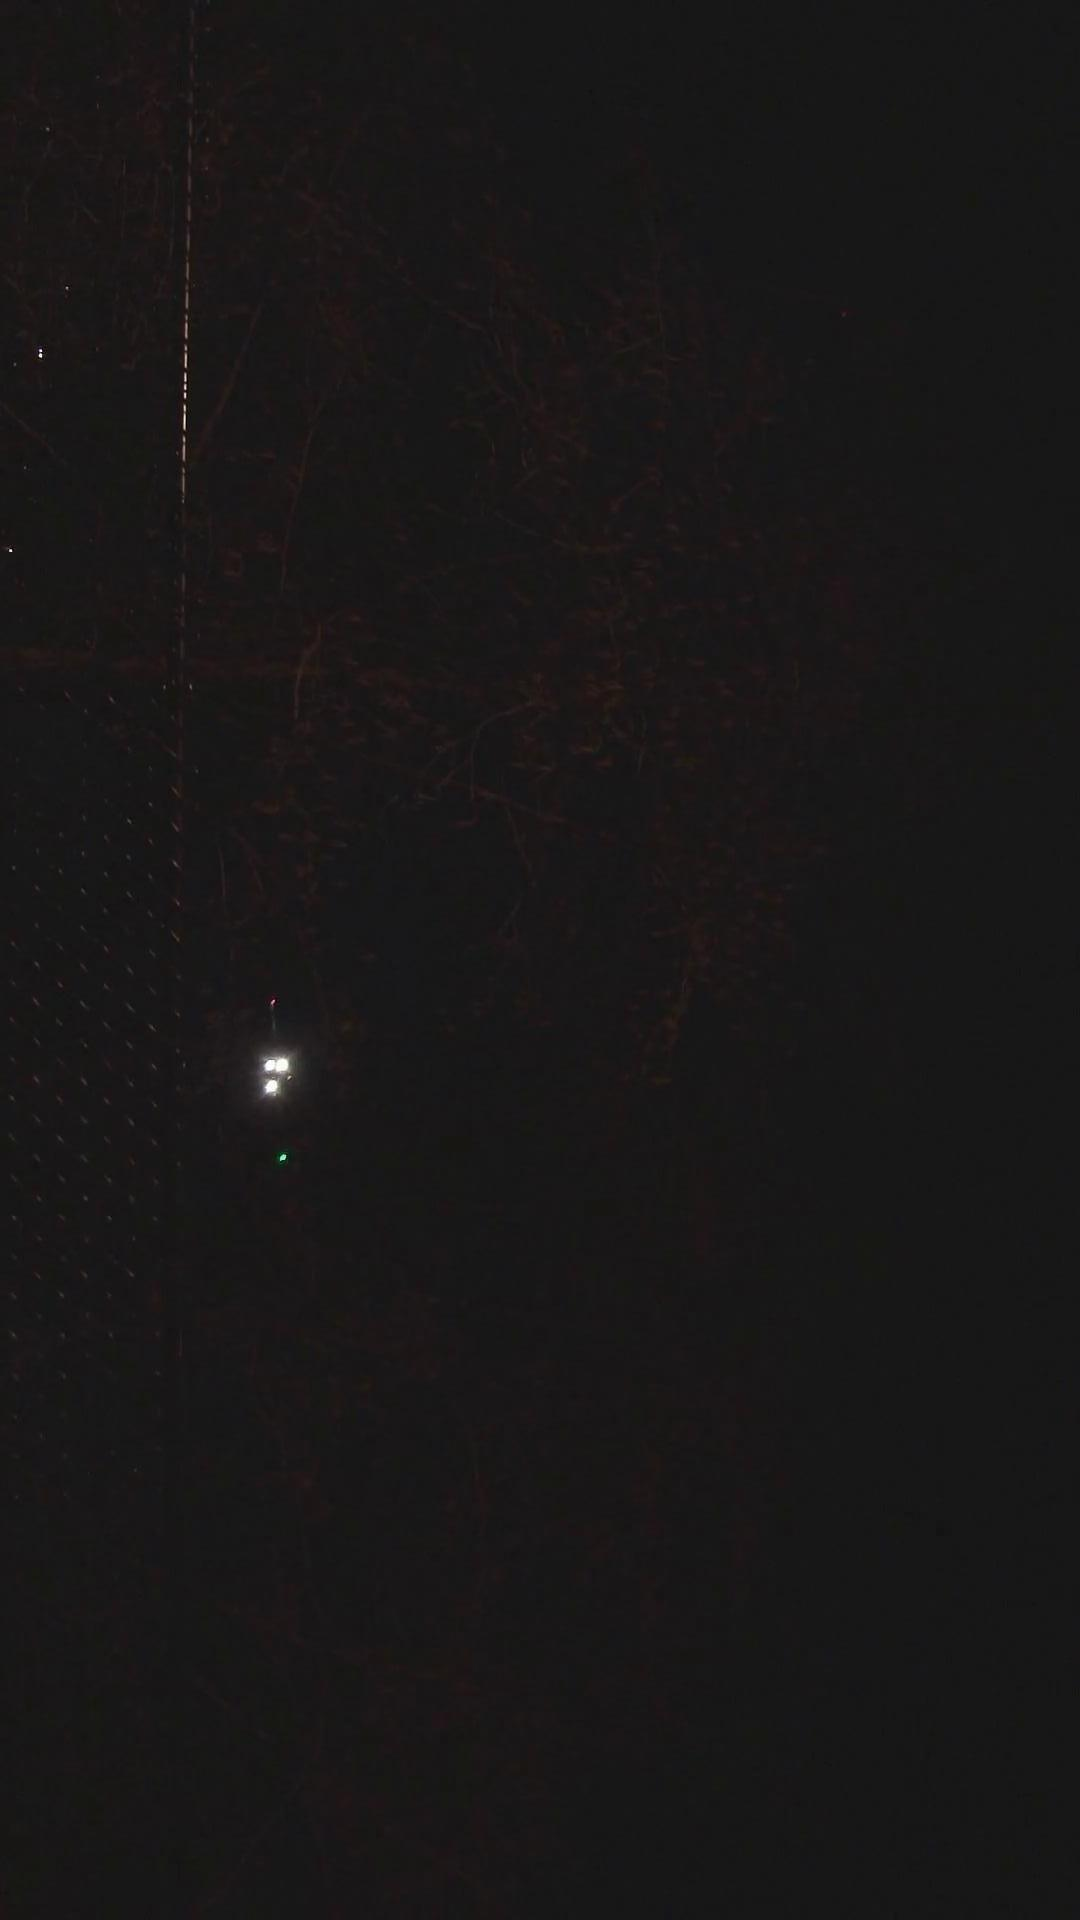Plane: (233, 956, 332, 1199)
